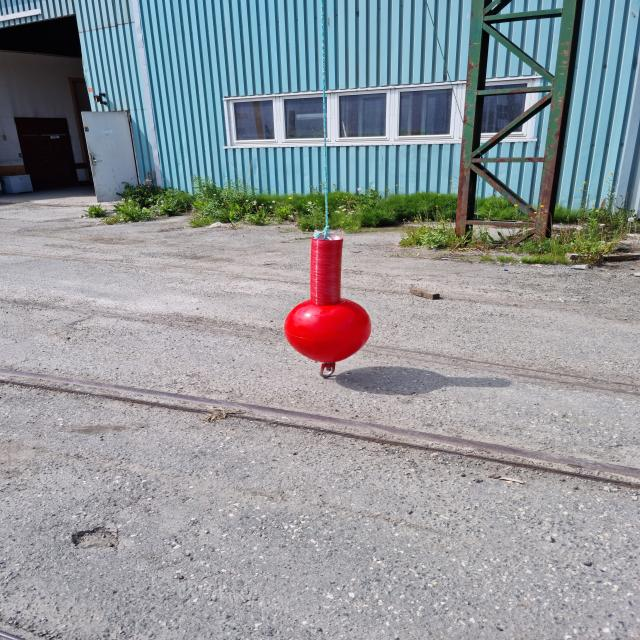red: (283, 235, 372, 362)
